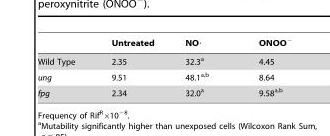table: (37, 36, 291, 97)
table column: (92, 36, 169, 97), (169, 36, 233, 97), (233, 36, 291, 97), (37, 36, 92, 97)
table column header: (37, 36, 291, 51)
table row: (37, 51, 291, 68), (37, 68, 291, 84), (37, 36, 291, 51), (37, 84, 291, 97)
